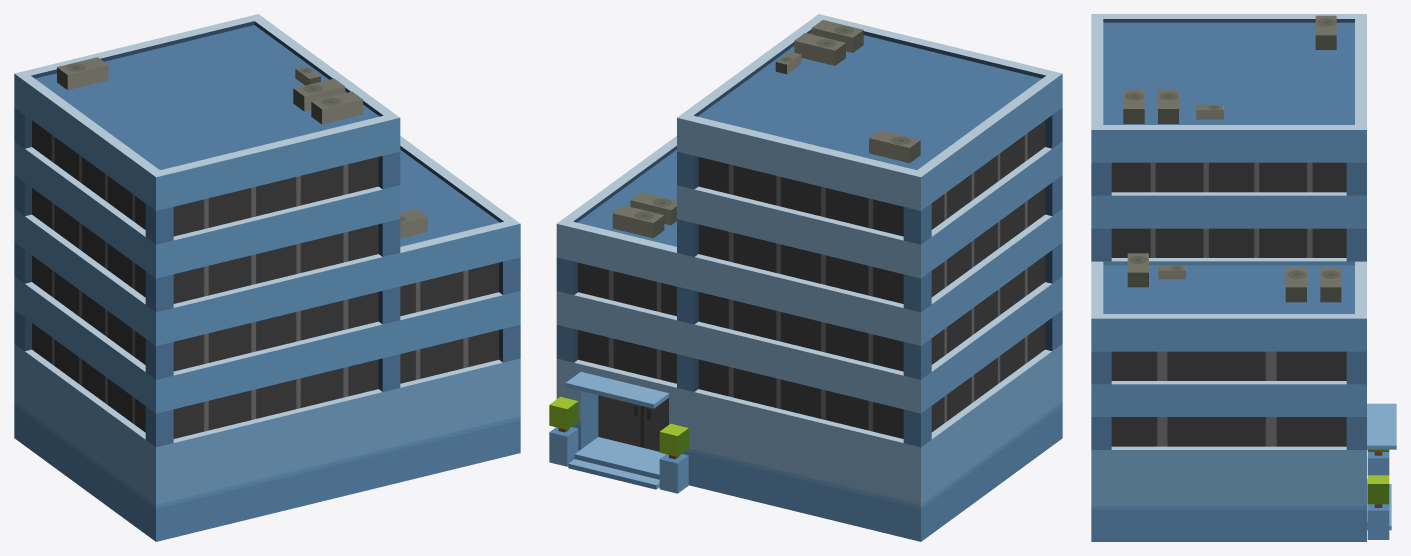
File: office_stepped_mesh.fbx
3 views of the same model, side by side, from view 1: azimuth 30°, elevation 25°; view 2: azimuth 150°, elevation 25°; view 3: azimuth 270°, elevation 25° (orthographic). The views are drawn at different scales.
Parts seen in each view (by area): view 1: office_stepped_mesh; view 2: office_stepped_mesh; view 3: office_stepped_mesh.
Boxes of the visible parts, x1,y1,x2,y2 form: office_stepped_mesh: (14,14,520,541); office_stepped_mesh: (549,14,1062,541); office_stepped_mesh: (1091,14,1396,541).
Bounding box in the file's own units: 0.2034 × 0.2004 × 0.1517.
Materials: 1 (1 with a texture image).
